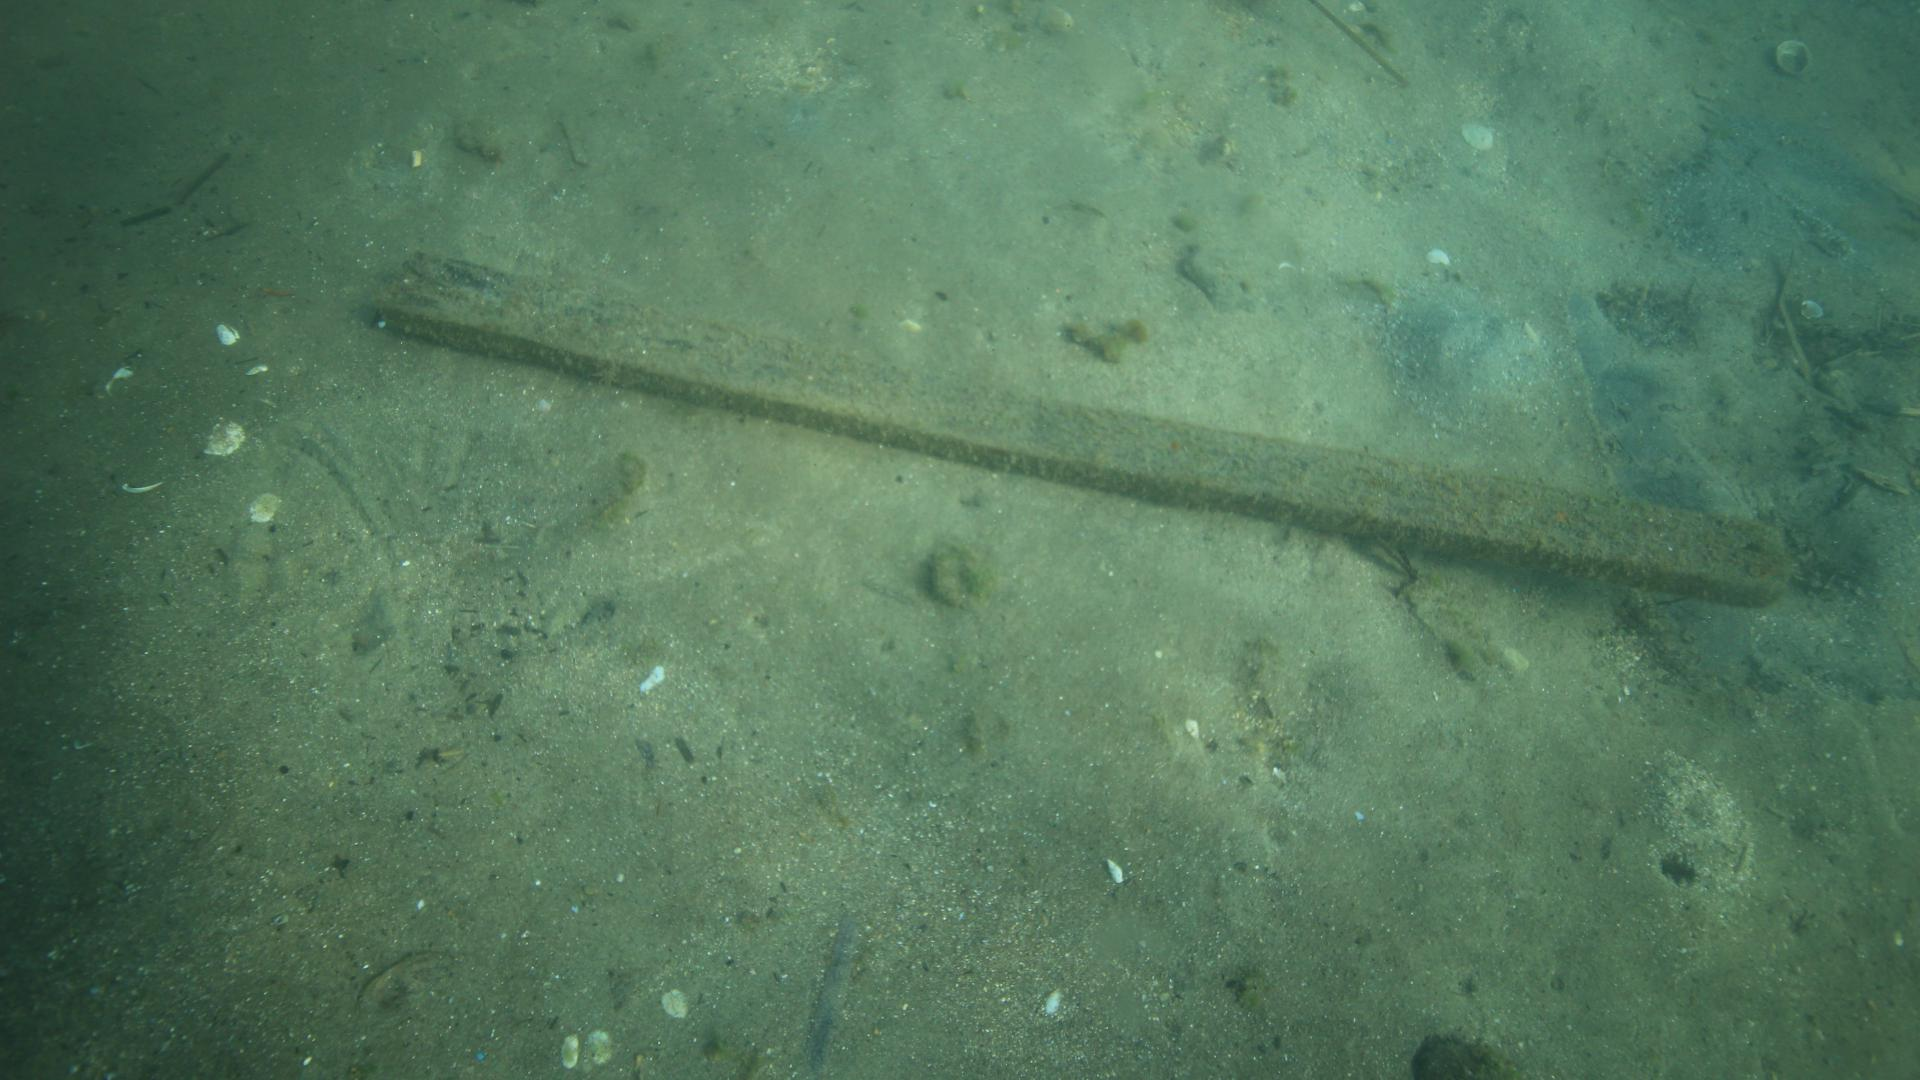wood: (351, 232, 1791, 612)
